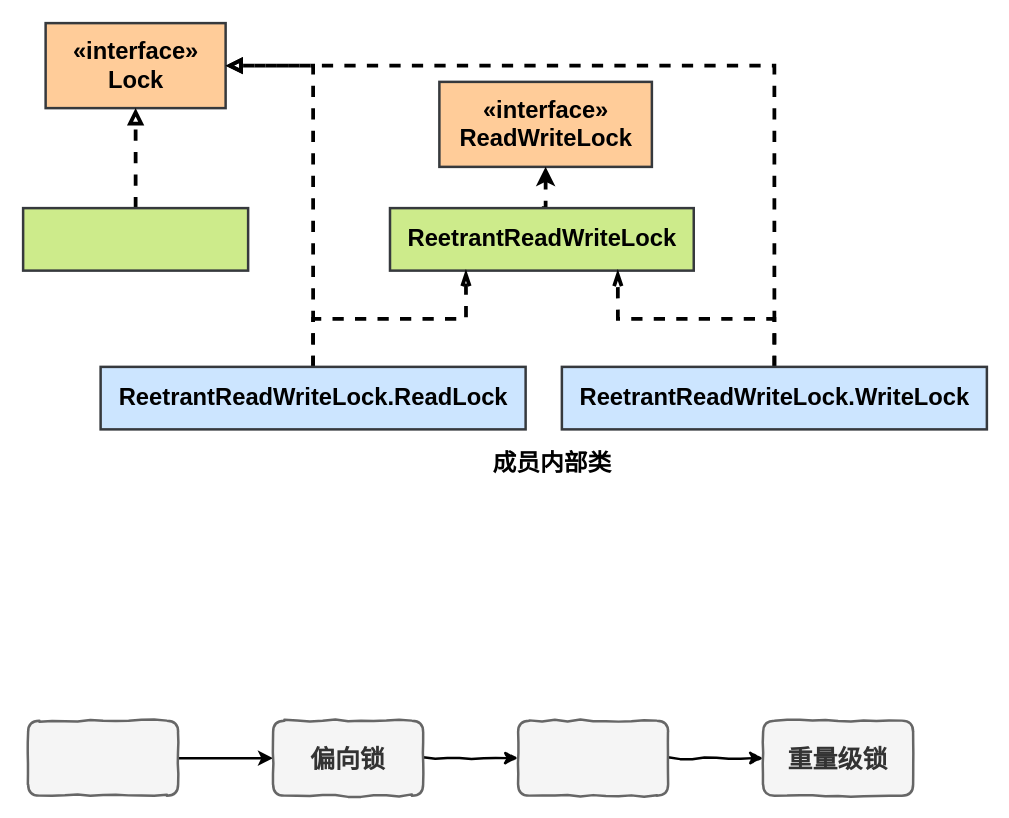
The diagram is 1009 pixels wide and 818 high, and some of its shapes have lost their labels. The centre of each missing label's shape, as x and y in pixels:
"ReetrantLock" goes at pixel 135 238.
"无锁" goes at pixel 102 757.
"轻量级锁" goes at pixel 592 757.
